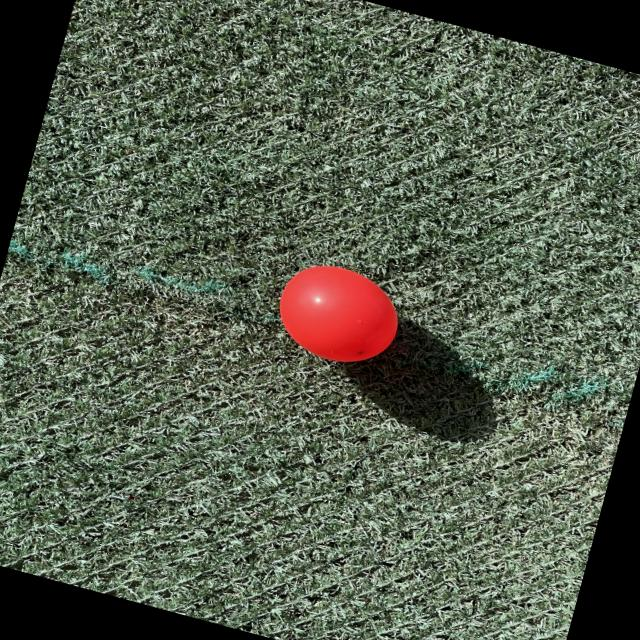balloon: (279, 266, 397, 361)
